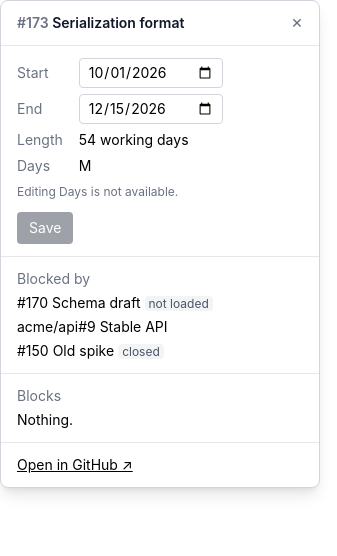
Test: TaskDetail › editing dates › keeps the edits and shows the message when a save fails
The image size is (337, 556).
In the date field with id "detail-start": (151, 73) [79,58,223,88], type "2026-10-05"
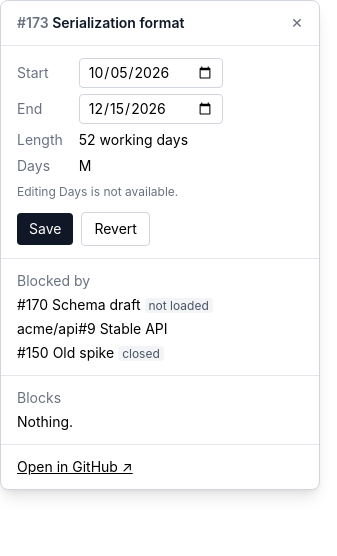
Submit the form, box [17,58,223,246]
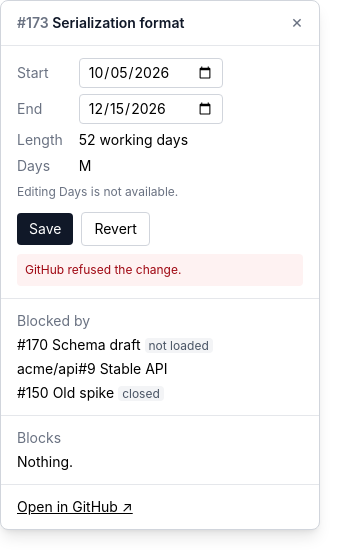
Result: the message "GitHub refused the change." is shown at [17,254,303,286]
